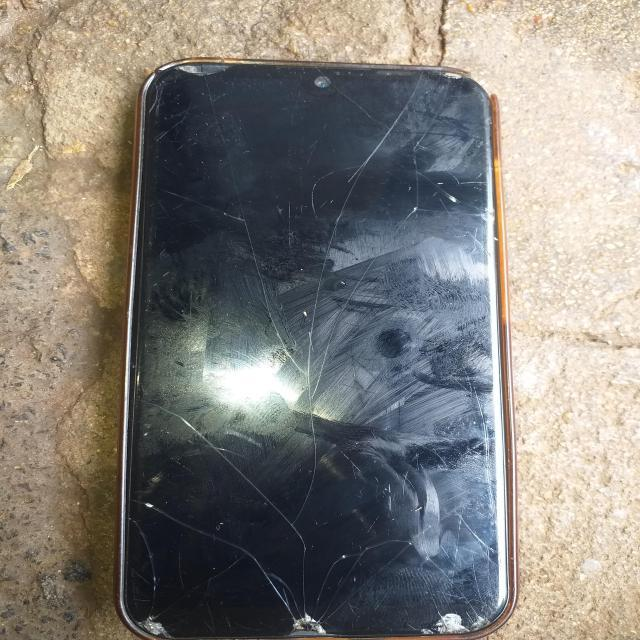phone: (116, 35, 536, 640)
